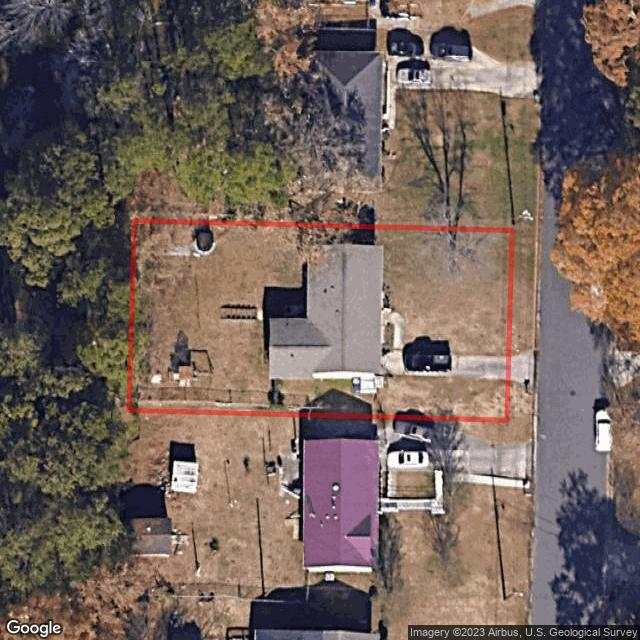Driveway: (382, 308, 504, 379)
Extra Driveway: (511, 351, 535, 384)
House: (268, 244, 385, 379)
